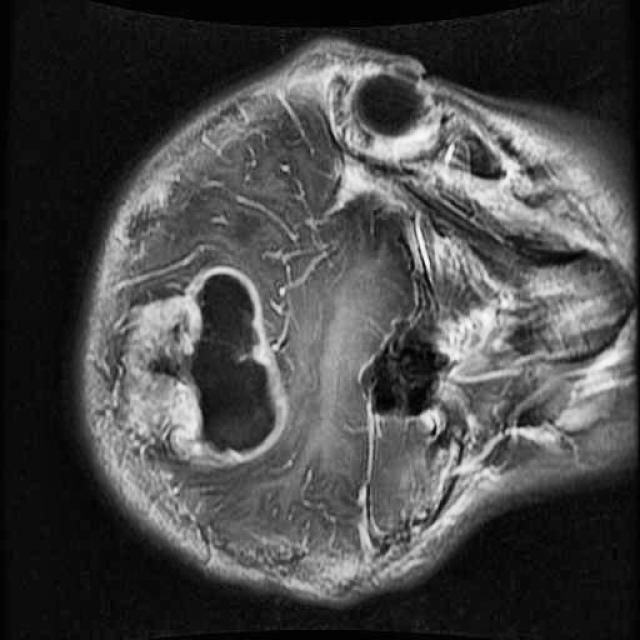Tumor: (99, 249, 298, 481)
